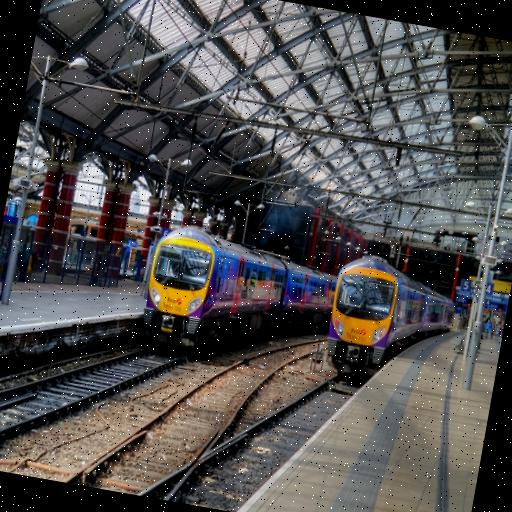platform_edge: (230, 303, 487, 512)
